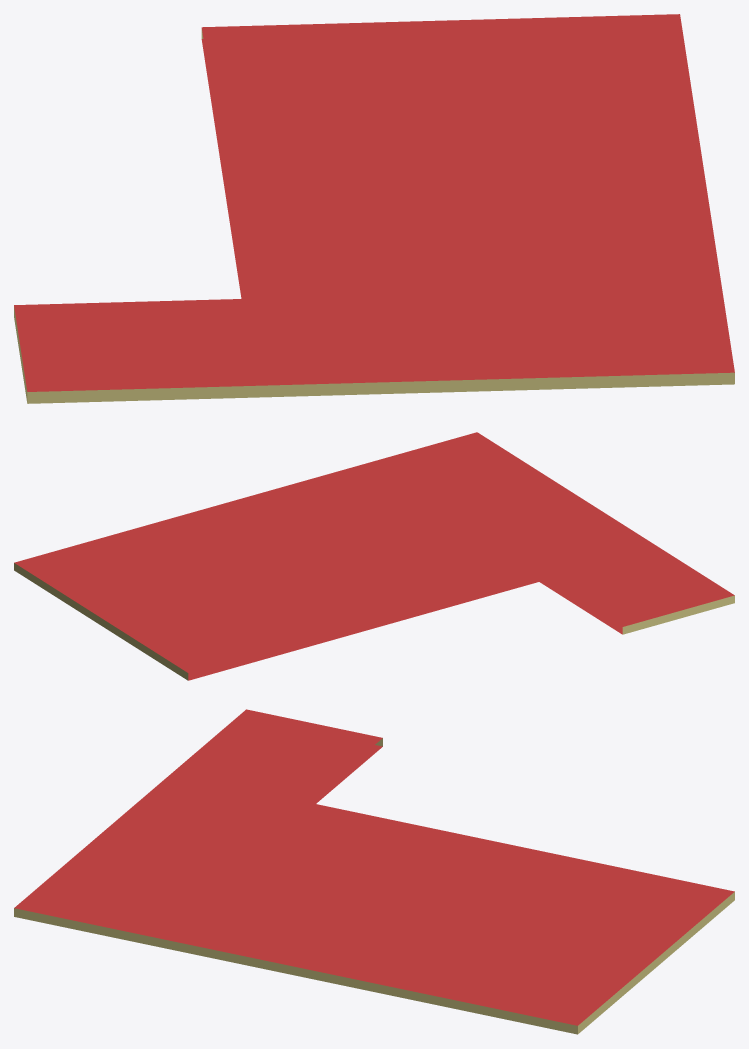
The picture shows the model from 3 angles, top to bottom: view 1: azimuth 30°, elevation 25°; view 2: azimuth 150°, elevation 25°; view 3: azimuth 270°, elevation 25°; orthographic projection. The views are drawn at different scales.
Bounding box in the file's own units: 7.79 × 7.5 × 0.1.
